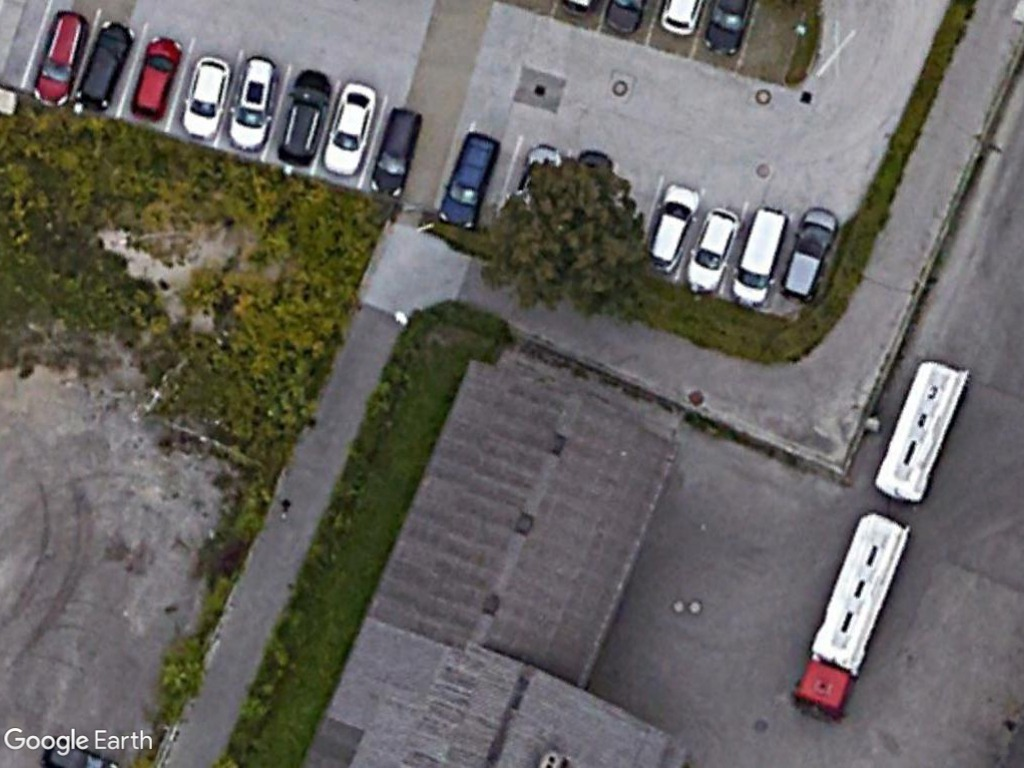car: (433, 129, 503, 233), (29, 4, 91, 109), (71, 16, 138, 113), (777, 205, 839, 305), (276, 65, 335, 169), (320, 78, 380, 179), (225, 49, 281, 153), (641, 181, 703, 274), (365, 105, 425, 197), (679, 206, 740, 296), (127, 32, 186, 124), (179, 48, 232, 140)
truck: (788, 509, 917, 727)
van: (730, 202, 792, 309)
